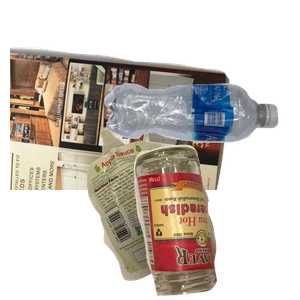glass: (131, 142, 300, 300)
paper: (10, 44, 232, 224)
plastic: (102, 81, 300, 216)
trash: (84, 126, 291, 300)
